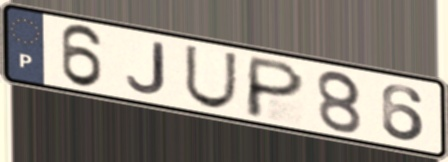6: (59, 22, 105, 90), (378, 82, 428, 143)
8: (315, 69, 364, 134)
J: (123, 40, 170, 97)
P: (241, 53, 309, 121)
U: (182, 42, 240, 110)
